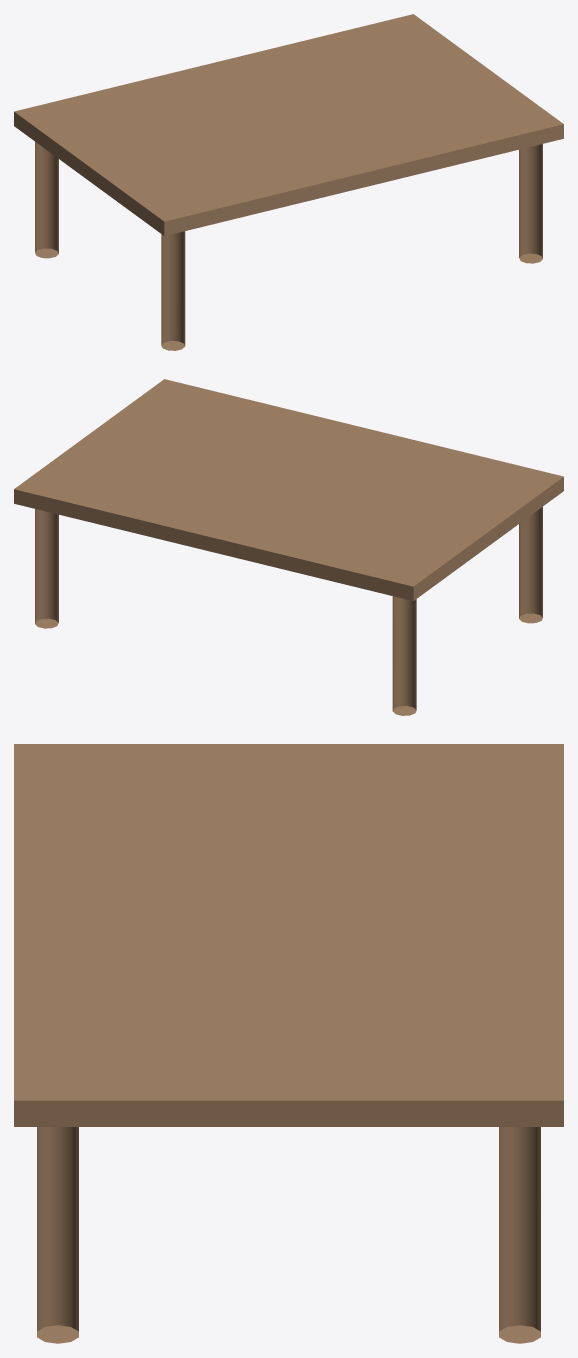
File: coffee_table_06.glb
3 views of the same model, one above another, from view 1: azimuth 30°, elevation 25°; view 2: azimuth 150°, elevation 25°; view 3: azimuth 270°, elevation 25° (orthographic). The views are drawn at different scales.
Bounding box in the file's own units: 1.15 × 0.38 × 0.75.
